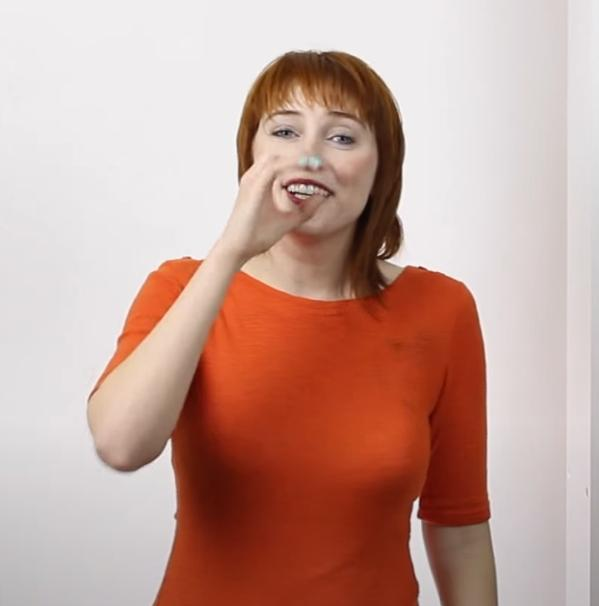drink: (206, 137, 332, 272)
